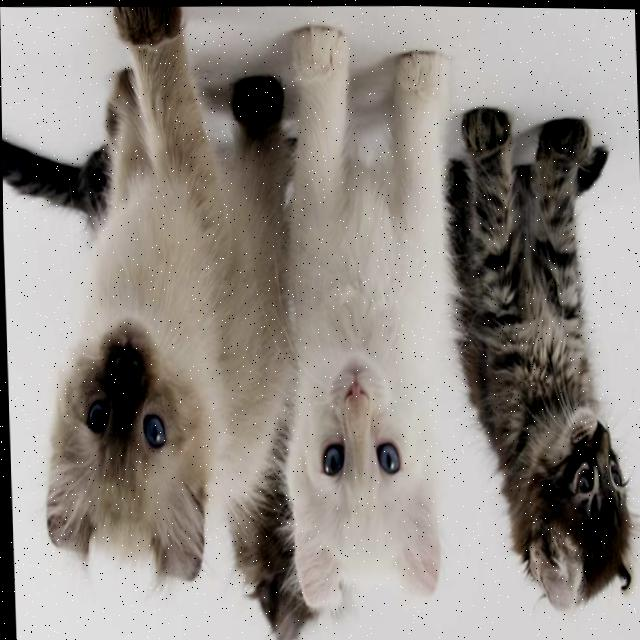American Curl: (0, 0, 302, 593), (266, 17, 467, 614), (437, 97, 636, 618)
